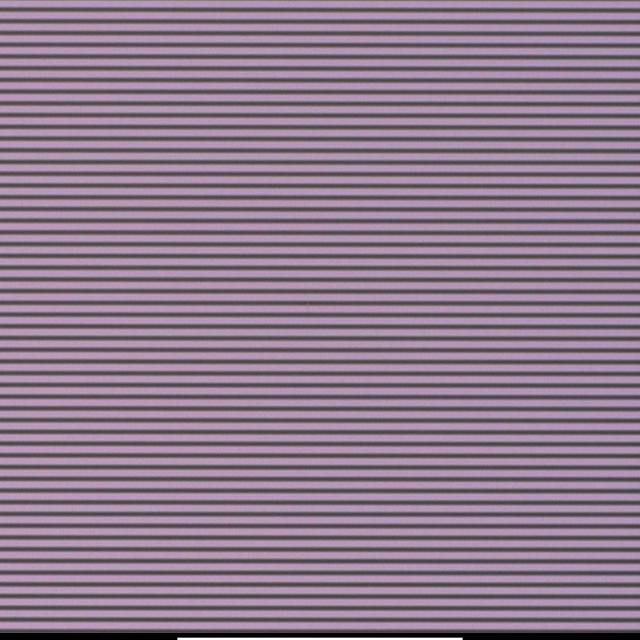03_intrusion: (305, 301, 311, 312)
